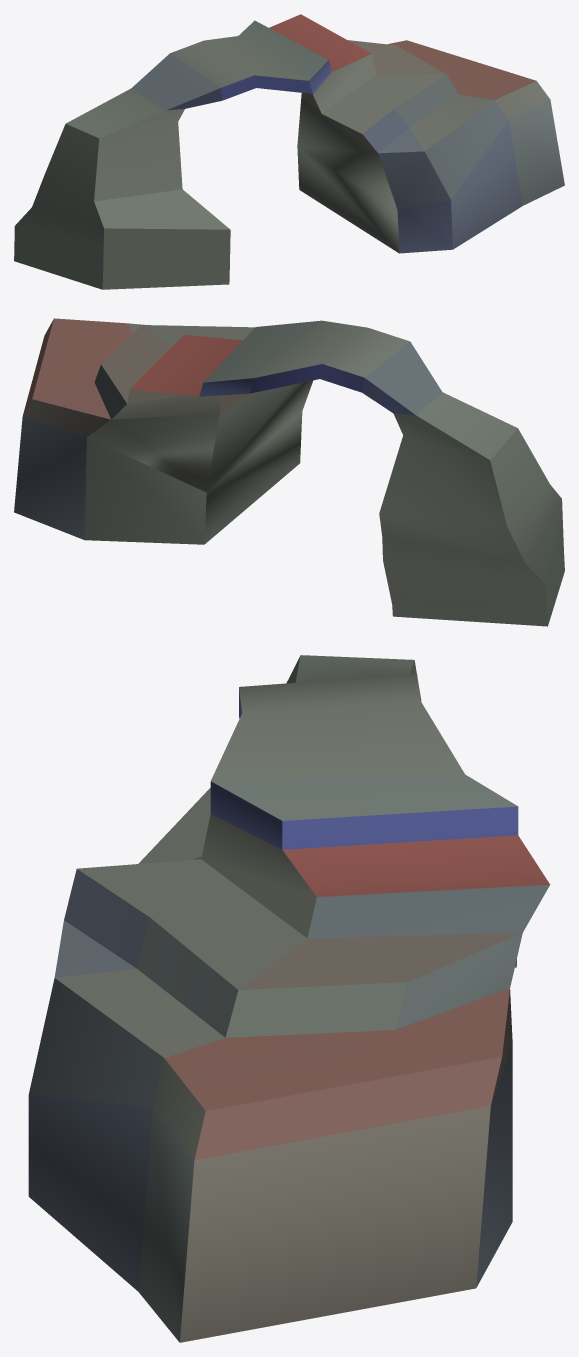
The model's file is arch-big.fbx.
The picture shows the model from 3 angles, top to bottom: view 1: azimuth 30°, elevation 25°; view 2: azimuth 150°, elevation 25°; view 3: azimuth 270°, elevation 25°; orthographic projection. The views are drawn at different scales.
Visible parts, largest first — view 1: Mesh; view 2: Mesh; view 3: Mesh.
Part boxes in pixels (<box>): Mesh: <box>14,14,564,289</box>; Mesh: <box>14,318,564,626</box>; Mesh: <box>28,655,550,1342</box>.
Size of the model in its own units: 2614 by 888 by 1203.
